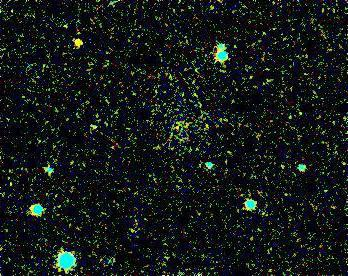star: (63, 27, 93, 57)
